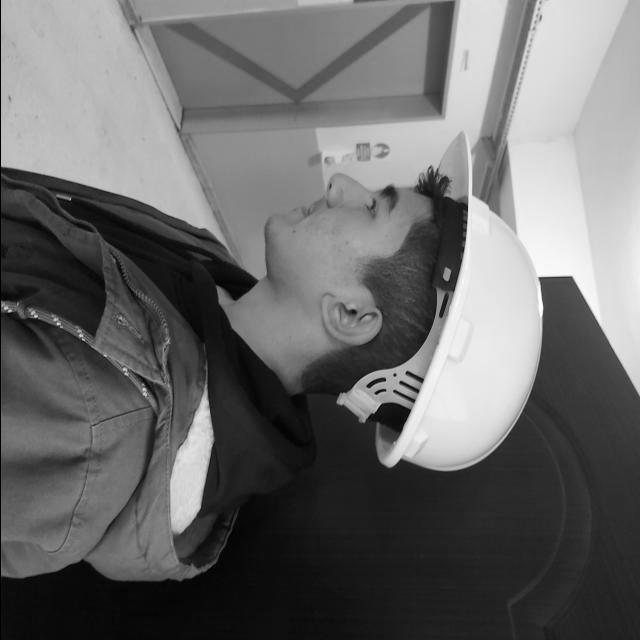construction helmet: (338, 165, 541, 473)
